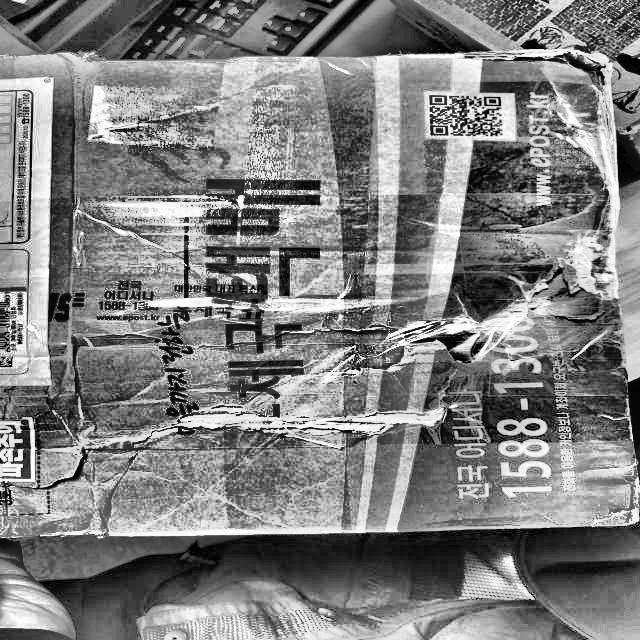box: (0, 42, 639, 550)
hole: (441, 301, 531, 371)
